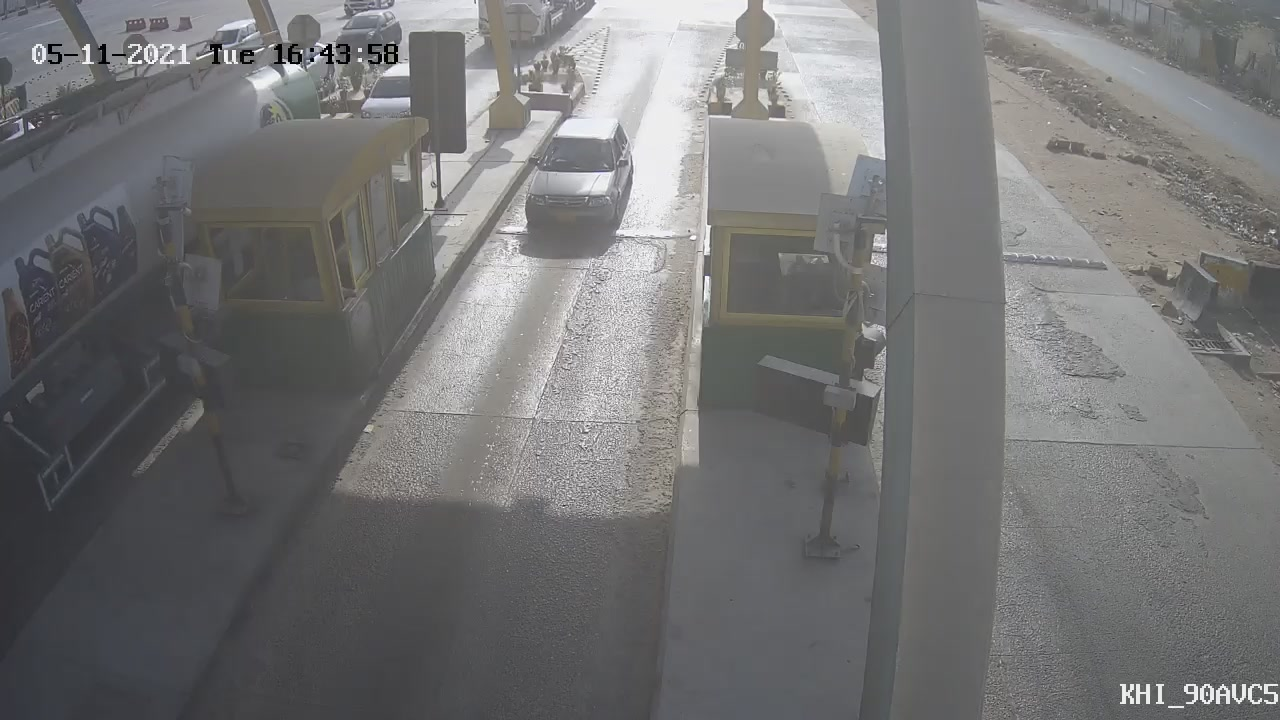F1: (505, 107, 650, 248)
